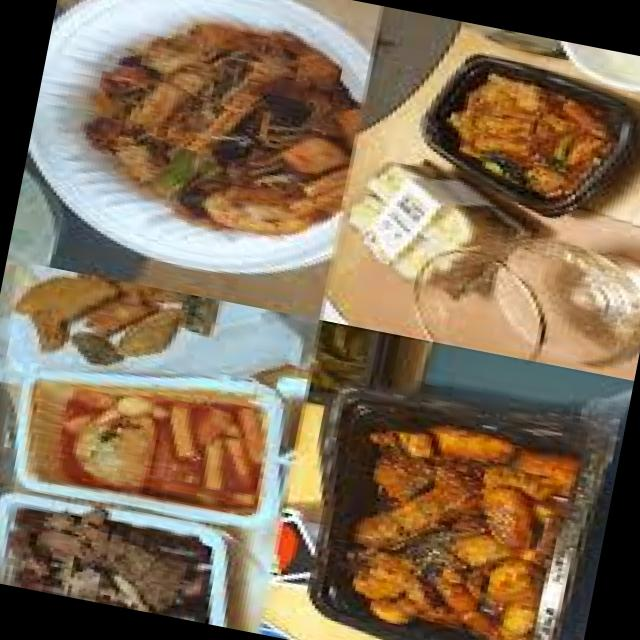glass bottle: (405, 232, 640, 377)
paper: (351, 174, 509, 270)
plastic-bowl: (24, 0, 376, 276), (308, 377, 628, 640), (0, 368, 295, 535), (415, 39, 640, 230), (0, 486, 236, 629), (333, 158, 536, 311), (552, 39, 640, 96)
